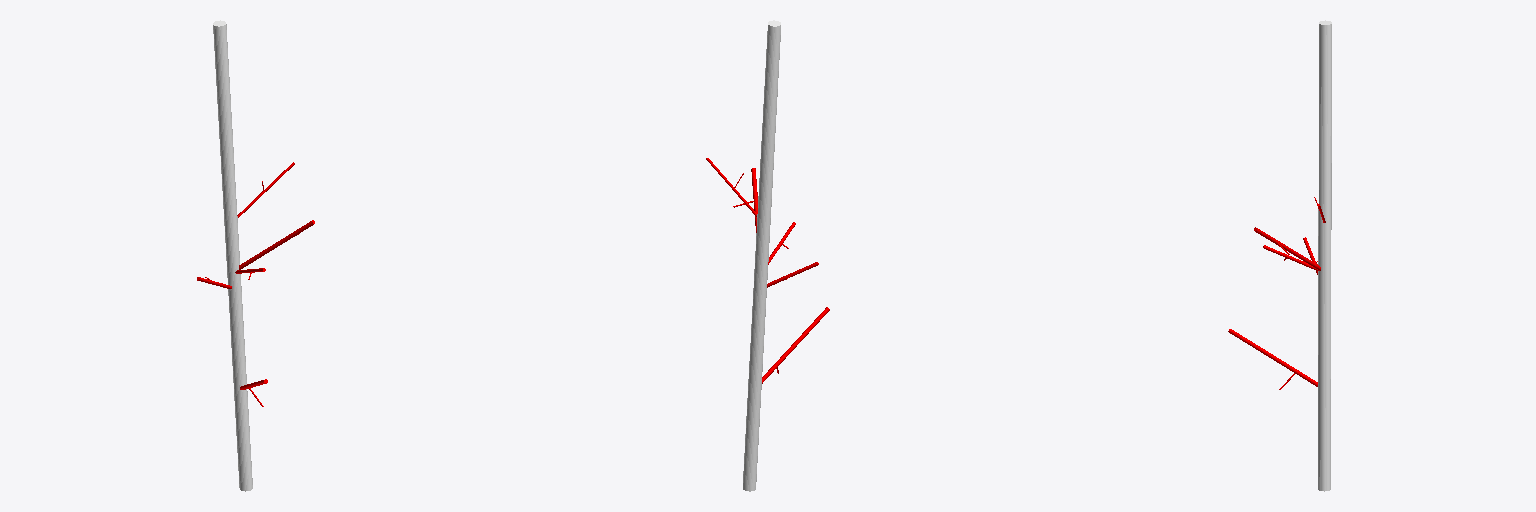
robot.urdf — tree_190.urdf:
<?xml version='1.0' encoding='UTF-8'?>
<robot name="tree_190.urdf">
  <link name="branch_0">
    <inertial>
      <origin xyz="0.0 0.0 0.0" rpy="0.0 -0.0 0.0"/>
      <mass value="0.1"/>
      <inertia ixx="0.001" ixy="0.0" ixz="0.0" iyy="0.001" iyz="0.0" izz="0.001"/>
    </inertial>
    <visual name="branch_0_visual">
      <geometry>
        <cylinder radius="0.139452911341137" length="10.709120723157262"/>
      </geometry>
      <material name="branch_material"/>
      <origin xyz="-0.3085866338035605 0.013331170602760692 5.345644323663634" rpy="-8.665534888687098e-19 0.057716411781795665 3.098418759845254"/>
    </visual>
    <collision name="branch_0_collision">
      <geometry>
        <cylinder radius="0.139452911341137" length="10.709120723157262"/>
      </geometry>
      <origin xyz="-0.3085866338035605 0.013331170602760692 5.345644323663634" rpy="-8.665534888687098e-19 0.057716411781795665 3.098418759845254"/>
    </collision>
  </link>
  <link name="branch_1">
    <inertial>
      <origin xyz="0.0 0.0 0.0" rpy="0.0 -0.0 0.0"/>
      <mass value="0.1"/>
      <inertia ixx="0.001" ixy="0.0" ixz="0.0" iyy="0.001" iyz="0.0" izz="0.001"/>
    </inertial>
    <visual name="branch_1_visual">
      <geometry>
        <cylinder radius="0.028820739603382144" length="1.7974618664392636"/>
      </geometry>
      <material name="semantic_material"/>
      <origin xyz="0.0 0.0 0.0" rpy="0.0 -0.0 0.0"/>
    </visual>
    <collision name="branch_1_collision">
      <geometry>
        <cylinder radius="0.028820739603382144" length="1.7974618664392636"/>
      </geometry>
      <origin xyz="0.0 0.0 0.0" rpy="0.0 -0.0 0.0"/>
    </collision>
  </link>
  <link name="branch_2">
    <inertial>
      <origin xyz="0.0 0.0 0.0" rpy="0.0 -0.0 0.0"/>
      <mass value="0.1"/>
      <inertia ixx="0.001" ixy="0.0" ixz="0.0" iyy="0.001" iyz="0.0" izz="0.001"/>
    </inertial>
    <visual name="branch_2_visual">
      <geometry>
        <cylinder radius="0.0110857329986262" length="0.38413168669113473"/>
      </geometry>
      <material name="semantic_material"/>
      <origin xyz="0.0 0.0 0.0" rpy="0.0 -0.0 0.0"/>
    </visual>
    <collision name="branch_2_collision">
      <geometry>
        <cylinder radius="0.0110857329986262" length="0.38413168669113473"/>
      </geometry>
      <origin xyz="0.0 0.0 0.0" rpy="0.0 -0.0 0.0"/>
    </collision>
  </link>
  <link name="branch_3">
    <inertial>
      <origin xyz="0.0 0.0 0.0" rpy="0.0 -0.0 0.0"/>
      <mass value="0.1"/>
      <inertia ixx="0.001" ixy="0.0" ixz="0.0" iyy="0.001" iyz="0.0" izz="0.001"/>
    </inertial>
    <visual name="branch_3_visual">
      <geometry>
        <cylinder radius="0.03834575988587442" length="1.3718398511659764"/>
      </geometry>
      <material name="semantic_material"/>
      <origin xyz="0.0 0.0 0.0" rpy="0.0 -0.0 0.0"/>
    </visual>
    <collision name="branch_3_collision">
      <geometry>
        <cylinder radius="0.03834575988587442" length="1.3718398511659764"/>
      </geometry>
      <origin xyz="0.0 0.0 0.0" rpy="0.0 -0.0 0.0"/>
    </collision>
  </link>
  <link name="branch_4">
    <inertial>
      <origin xyz="0.0 0.0 0.0" rpy="0.0 -0.0 0.0"/>
      <mass value="0.1"/>
      <inertia ixx="0.001" ixy="0.0" ixz="0.0" iyy="0.001" iyz="0.0" izz="0.001"/>
    </inertial>
    <visual name="branch_4_visual">
      <geometry>
        <cylinder radius="0.01" length="0.3034228159107539"/>
      </geometry>
      <material name="semantic_material"/>
      <origin xyz="0.0 0.0 0.0" rpy="0.0 -0.0 0.0"/>
    </visual>
    <collision name="branch_4_collision">
      <geometry>
        <cylinder radius="0.01" length="0.3034228159107539"/>
      </geometry>
      <origin xyz="0.0 0.0 0.0" rpy="0.0 -0.0 0.0"/>
    </collision>
  </link>
  <link name="branch_5">
    <inertial>
      <origin xyz="0.0 0.0 0.0" rpy="0.0 -0.0 0.0"/>
      <mass value="0.1"/>
      <inertia ixx="0.001" ixy="0.0" ixz="0.0" iyy="0.001" iyz="0.0" izz="0.001"/>
    </inertial>
    <visual name="branch_5_visual">
      <geometry>
        <cylinder radius="0.04618031388865587" length="2.341448840284163"/>
      </geometry>
      <material name="semantic_material"/>
      <origin xyz="0.0 0.0 0.0" rpy="0.0 -0.0 0.0"/>
    </visual>
    <collision name="branch_5_collision">
      <geometry>
        <cylinder radius="0.04618031388865587" length="2.341448840284163"/>
      </geometry>
      <origin xyz="0.0 0.0 0.0" rpy="0.0 -0.0 0.0"/>
    </collision>
  </link>
  <link name="branch_6">
    <inertial>
      <origin xyz="0.0 0.0 0.0" rpy="0.0 -0.0 0.0"/>
      <mass value="0.1"/>
      <inertia ixx="0.001" ixy="0.0" ixz="0.0" iyy="0.001" iyz="0.0" izz="0.001"/>
    </inertial>
    <visual name="branch_6_visual">
      <geometry>
        <cylinder radius="0.016978496577527664" length="0.4768850560058128"/>
      </geometry>
      <material name="semantic_material"/>
      <origin xyz="0.0 0.0 0.0" rpy="0.0 -0.0 0.0"/>
    </visual>
    <collision name="branch_6_collision">
      <geometry>
        <cylinder radius="0.016978496577527664" length="0.4768850560058128"/>
      </geometry>
      <origin xyz="0.0 0.0 0.0" rpy="0.0 -0.0 0.0"/>
    </collision>
  </link>
  <link name="branch_7">
    <inertial>
      <origin xyz="0.0 0.0 0.0" rpy="0.0 -0.0 0.0"/>
      <mass value="0.1"/>
      <inertia ixx="0.001" ixy="0.0" ixz="0.0" iyy="0.001" iyz="0.0" izz="0.001"/>
    </inertial>
    <visual name="branch_7_visual">
      <geometry>
        <cylinder radius="0.03713082991617586" length="1.4386109131085503"/>
      </geometry>
      <material name="semantic_material"/>
      <origin xyz="0.0 0.0 0.0" rpy="0.0 -0.0 0.0"/>
    </visual>
    <collision name="branch_7_collision">
      <geometry>
        <cylinder radius="0.03713082991617586" length="1.4386109131085503"/>
      </geometry>
      <origin xyz="0.0 0.0 0.0" rpy="0.0 -0.0 0.0"/>
    </collision>
  </link>
  <link name="branch_8">
    <inertial>
      <origin xyz="0.0 0.0 0.0" rpy="0.0 -0.0 0.0"/>
      <mass value="0.1"/>
      <inertia ixx="0.001" ixy="0.0" ixz="0.0" iyy="0.001" iyz="0.0" izz="0.001"/>
    </inertial>
    <visual name="branch_8_visual">
      <geometry>
        <cylinder radius="0.014418354135714616" length="0.2086910665977997"/>
      </geometry>
      <material name="semantic_material"/>
      <origin xyz="0.0 0.0 0.0" rpy="0.0 -0.0 0.0"/>
    </visual>
    <collision name="branch_8_collision">
      <geometry>
        <cylinder radius="0.014418354135714616" length="0.2086910665977997"/>
      </geometry>
      <origin xyz="0.0 0.0 0.0" rpy="0.0 -0.0 0.0"/>
    </collision>
  </link>
  <link name="branch_9">
    <inertial>
      <origin xyz="0.0 0.0 0.0" rpy="0.0 -0.0 0.0"/>
      <mass value="0.1"/>
      <inertia ixx="0.001" ixy="0.0" ixz="0.0" iyy="0.001" iyz="0.0" izz="0.001"/>
    </inertial>
    <visual name="branch_9_visual">
      <geometry>
        <cylinder radius="0.045560462290089615" length="2.395176625627032"/>
      </geometry>
      <material name="semantic_material"/>
      <origin xyz="0.0 0.0 0.0" rpy="0.0 -0.0 0.0"/>
    </visual>
    <collision name="branch_9_collision">
      <geometry>
        <cylinder radius="0.045560462290089615" length="2.395176625627032"/>
      </geometry>
      <origin xyz="0.0 0.0 0.0" rpy="0.0 -0.0 0.0"/>
    </collision>
  </link>
  <link name="branch_10">
    <inertial>
      <origin xyz="0.0 0.0 0.0" rpy="0.0 -0.0 0.0"/>
      <mass value="0.1"/>
      <inertia ixx="0.001" ixy="0.0" ixz="0.0" iyy="0.001" iyz="0.0" izz="0.001"/>
    </inertial>
    <visual name="branch_10_visual">
      <geometry>
        <cylinder radius="0.016776866609439292" length="0.5260472679329282"/>
      </geometry>
      <material name="semantic_material"/>
      <origin xyz="0.0 0.0 0.0" rpy="0.0 -0.0 0.0"/>
    </visual>
    <collision name="branch_10_collision">
      <geometry>
        <cylinder radius="0.016776866609439292" length="0.5260472679329282"/>
      </geometry>
      <origin xyz="0.0 0.0 0.0" rpy="0.0 -0.0 0.0"/>
    </collision>
  </link>
  <joint name="joint_0_1" type="fixed">
    <parent link="branch_0"/>
    <child link="branch_1"/>
    <axis xyz="1. 0. 0."/>
    <origin xyz="0.35970615433946906 -0.05112209855804871 6.6408697735124935" rpy="0.004540339756942771 0.9193641878093556 -0.08722586626369887"/>
  </joint>
  <joint name="joint_0_3" type="fixed">
    <parent link="branch_0"/>
    <child link="branch_3"/>
    <axis xyz="1. 0. 0."/>
    <origin xyz="-0.826074562359502 -0.20388690825954625 4.923982593218851" rpy="0.04909421032565561 1.0667740521639366 -2.718988455529844"/>
  </joint>
  <joint name="joint_0_5" type="fixed">
    <parent link="branch_0"/>
    <child link="branch_5"/>
    <axis xyz="1. 0. 0."/>
    <origin xyz="0.23247060421403784 -0.7314909678047642 5.731423096529995" rpy="0.07040963959679133 0.8856841961025917 -0.8693232993041542"/>
  </joint>
  <joint name="joint_0_7" type="fixed">
    <parent link="branch_0"/>
    <child link="branch_7"/>
    <axis xyz="1. 0. 0."/>
    <origin xyz="-0.30509549352305765 -0.6430504383539155 5.266552862779738" rpy="0.13927439580602624 1.1426746855992584 -1.4455884737256866"/>
  </joint>
  <joint name="joint_0_9" type="fixed">
    <parent link="branch_0"/>
    <child link="branch_9"/>
    <axis xyz="1. 0. 0."/>
    <origin xyz="-0.4163388609248409 -1.0132303447786968 2.8557743052752786" rpy="0.12003013857632938 1.078885159412931 -1.706536525394018"/>
  </joint>
  <joint name="joint_1_2" type="fixed">
    <parent link="branch_0"/>
    <child link="branch_2"/>
    <axis xyz="1. 0. 0."/>
    <origin xyz="0.3271545041095202 -0.13084420632683208 6.83071360056256" rpy="-0.39577504043196576 0.41149985689578517 -3.108000569719633"/>
  </joint>
  <joint name="joint_3_4" type="fixed">
    <parent link="branch_0"/>
    <child link="branch_4"/>
    <axis xyz="1. 0. 0."/>
    <origin xyz="-0.8852920518629955 -0.06685768682273703 4.958623394035564" rpy="-1.4061299972749268 0.5086581531202203 0.3318920712098781"/>
  </joint>
  <joint name="joint_5_6" type="fixed">
    <parent link="branch_0"/>
    <child link="branch_6"/>
    <axis xyz="1. 0. 0."/>
    <origin xyz="0.6173684520138829 -0.879226402920834 5.949687358146201" rpy="1.8930628200902369 0.640740731123765 2.3822177270327485"/>
  </joint>
  <joint name="joint_7_8" type="fixed">
    <parent link="branch_0"/>
    <child link="branch_8"/>
    <axis xyz="1. 0. 0."/>
    <origin xyz="-0.37250665488739343 -0.8112013773134517 5.254514839478144" rpy="-2.4127588737661356 0.5752352387002156 1.6864696800429568"/>
  </joint>
  <joint name="joint_9_10" type="fixed">
    <parent link="branch_0"/>
    <child link="branch_10"/>
    <axis xyz="1. 0. 0."/>
    <origin xyz="-0.22148584437500118 -0.7697589085871512 2.4458054339644724" rpy="2.5880962470679636 0.650795210547749 1.187802490951136"/>
  </joint>
  <material name="branch_material">
    <color rgba="1. 1. 1. 1."/>
  </material>
  <material name="semantic_material">
    <color rgba="1. 0. 0. 1."/>
  </material>
</robot>

--- Render facts (derived) ---
The picture shows the robot from 3 angles, left to right: view 1: azimuth 30°, elevation 25°; view 2: azimuth 150°, elevation 25°; view 3: azimuth 270°, elevation 25°; orthographic projection.
Model tree_190.urdf with 11 links and 10 joints (10 fixed), rooted at branch_0, posed every joint at zero.
Visible links, largest first — view 1: branch_0; view 2: branch_0; view 3: branch_0.
Link boxes in pixels (x1,y1,x2,y2): branch_0: (213,20,252,491); branch_0: (743,20,780,491); branch_0: (1318,20,1331,491).
Size in the robot's own frame: 2.5 by 2.22 by 10.71 metres.
Geometry: primitives only (box / cylinder / sphere), no mesh files.
